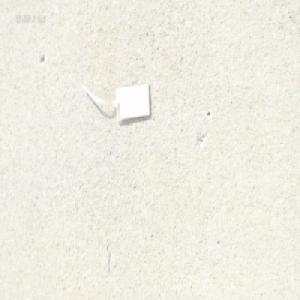LuggageTag: (82, 71, 154, 126)
